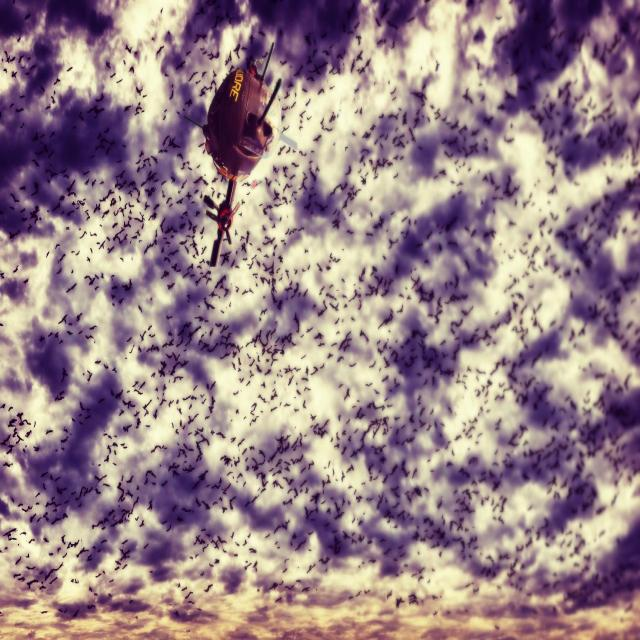airplane: (178, 39, 298, 267)
